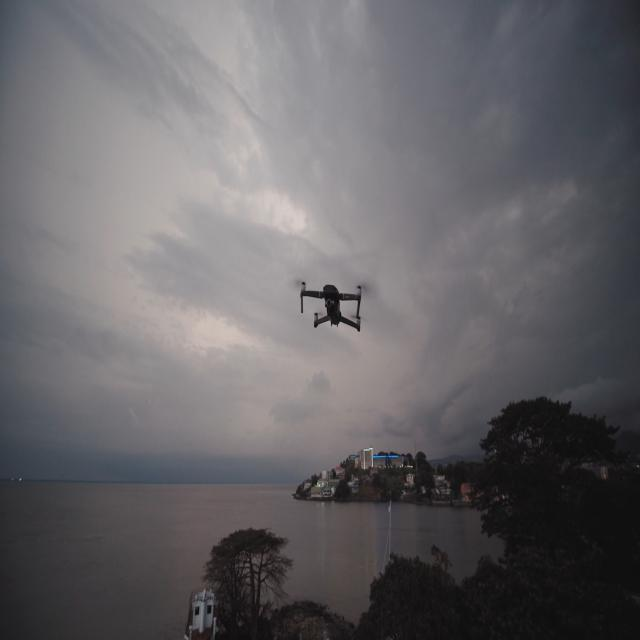drone: (299, 280, 362, 332)
